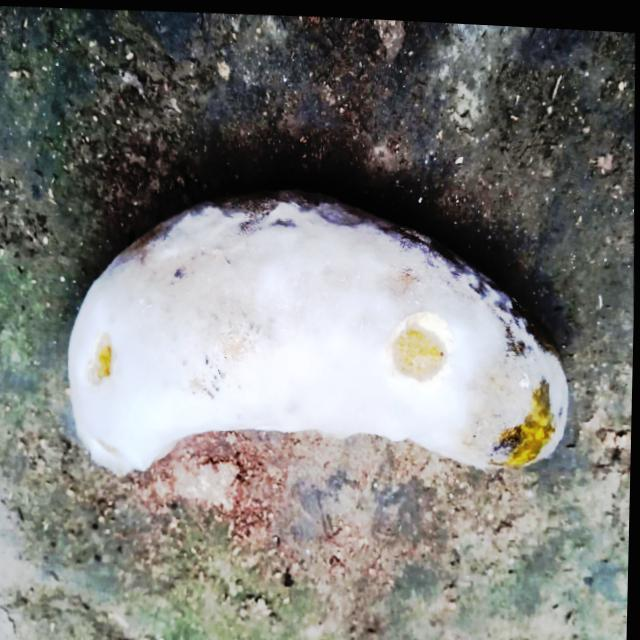Pythium-Fruit-Rot: (62, 181, 577, 498)
